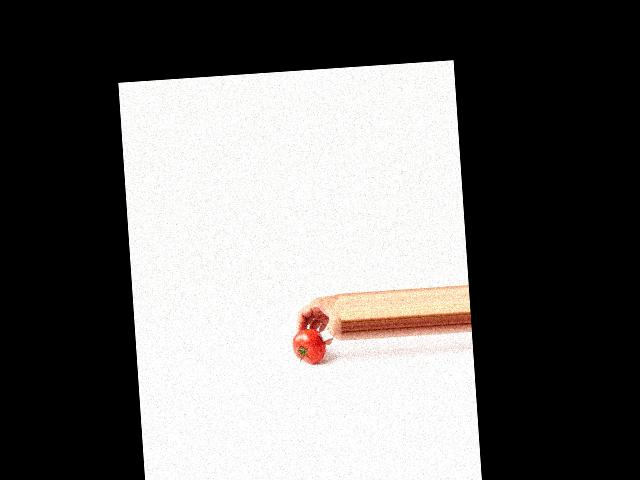tomato: (291, 327, 326, 364)
